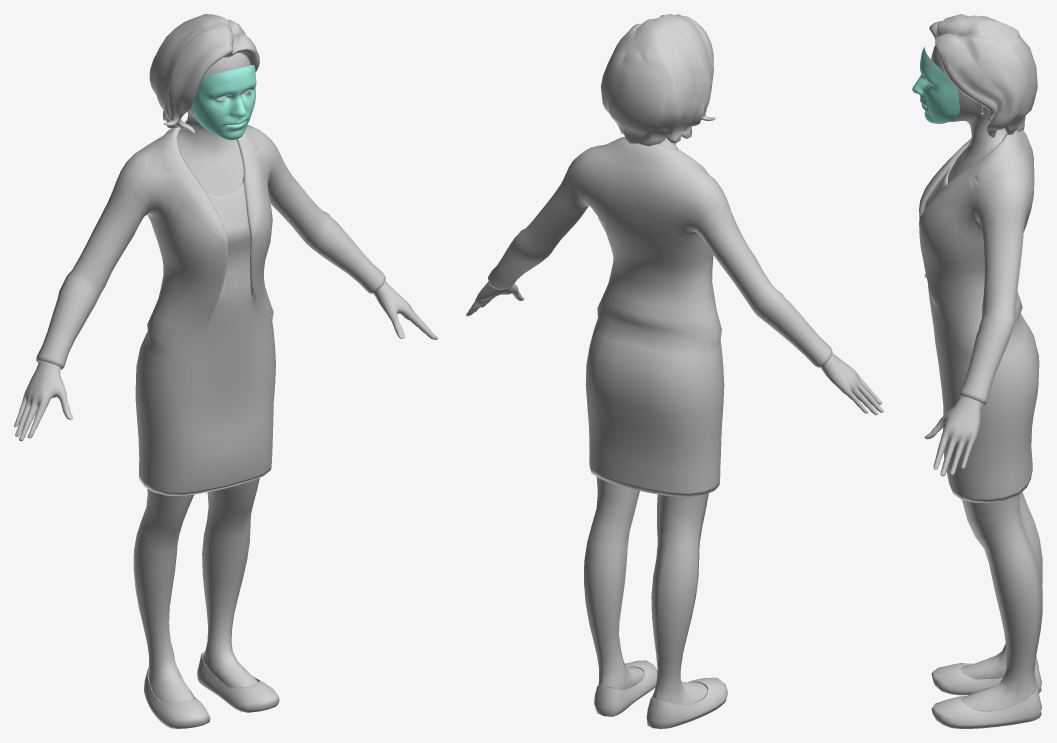
Rendered from bsTest_RIG.glb.
The picture shows the model from 3 angles, left to right: view 1: azimuth 30°, elevation 25°; view 2: azimuth 150°, elevation 25°; view 3: azimuth 270°, elevation 25°; orthographic projection.
Parts seen in each view (by area): view 1: outfit_geo, body_geo, hair_geo, bs:head_geo; view 2: outfit_geo, body_geo, hair_geo; view 3: outfit_geo, body_geo, hair_geo, bs:head_geo.
Part boxes in pixels (box(x1,y1,x2,y2)): outfit_geo: box(36, 120, 385, 728); body_geo: box(14, 53, 437, 702); hair_geo: box(149, 14, 259, 134); bs:head_geo: box(192, 65, 256, 140); outfit_geo: box(488, 136, 832, 728); body_geo: box(466, 137, 883, 707); hair_geo: box(600, 14, 715, 146); outfit_geo: box(919, 105, 1041, 728); body_geo: box(924, 45, 1042, 711); hair_geo: box(929, 14, 1037, 137); bs:head_geo: box(912, 47, 959, 123).
Bounding box in the file's own units: 110 × 173 × 29.76.
